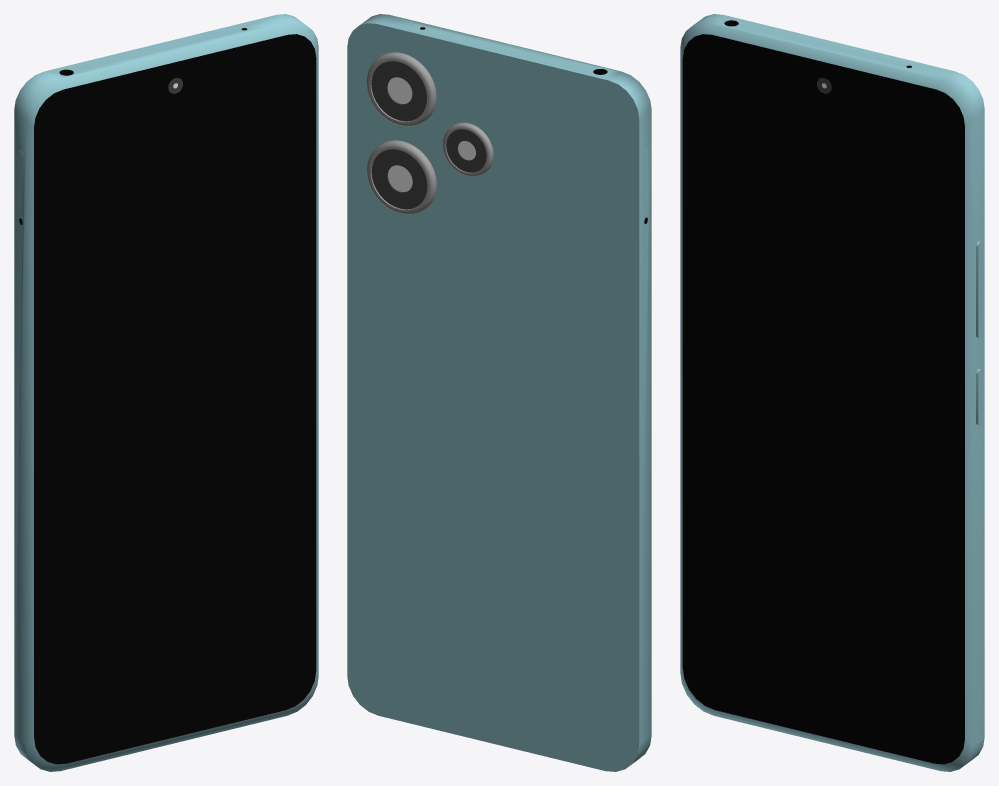
Rendered from bluemi_12_5g_lowpoly_game_asset.glb.
3 views of the same model, side by side, from view 1: azimuth 30°, elevation 25°; view 2: azimuth 150°, elevation 25°; view 3: azimuth 330°, elevation 25° (orthographic).
Parts seen in each view (by area): view 1: Phone_0; view 2: Phone_0, Back Camera.001_7, Back Camera_3, Depth Camera_2; view 3: Phone_0, Volume Btn_4.
Boxes of the visible parts, x1,y1,x2,y2 form: Phone_0: (14,14,318,771); Phone_0: (347,14,651,771); Back Camera.001_7: (367,140,436,214); Back Camera_3: (366,52,436,126); Depth Camera_2: (442,122,493,176); Phone_0: (680,14,984,771); Volume Btn_4: (976,241,982,338).
Size of the model in its own units: 1.84 by 4.13 by 0.2026.
